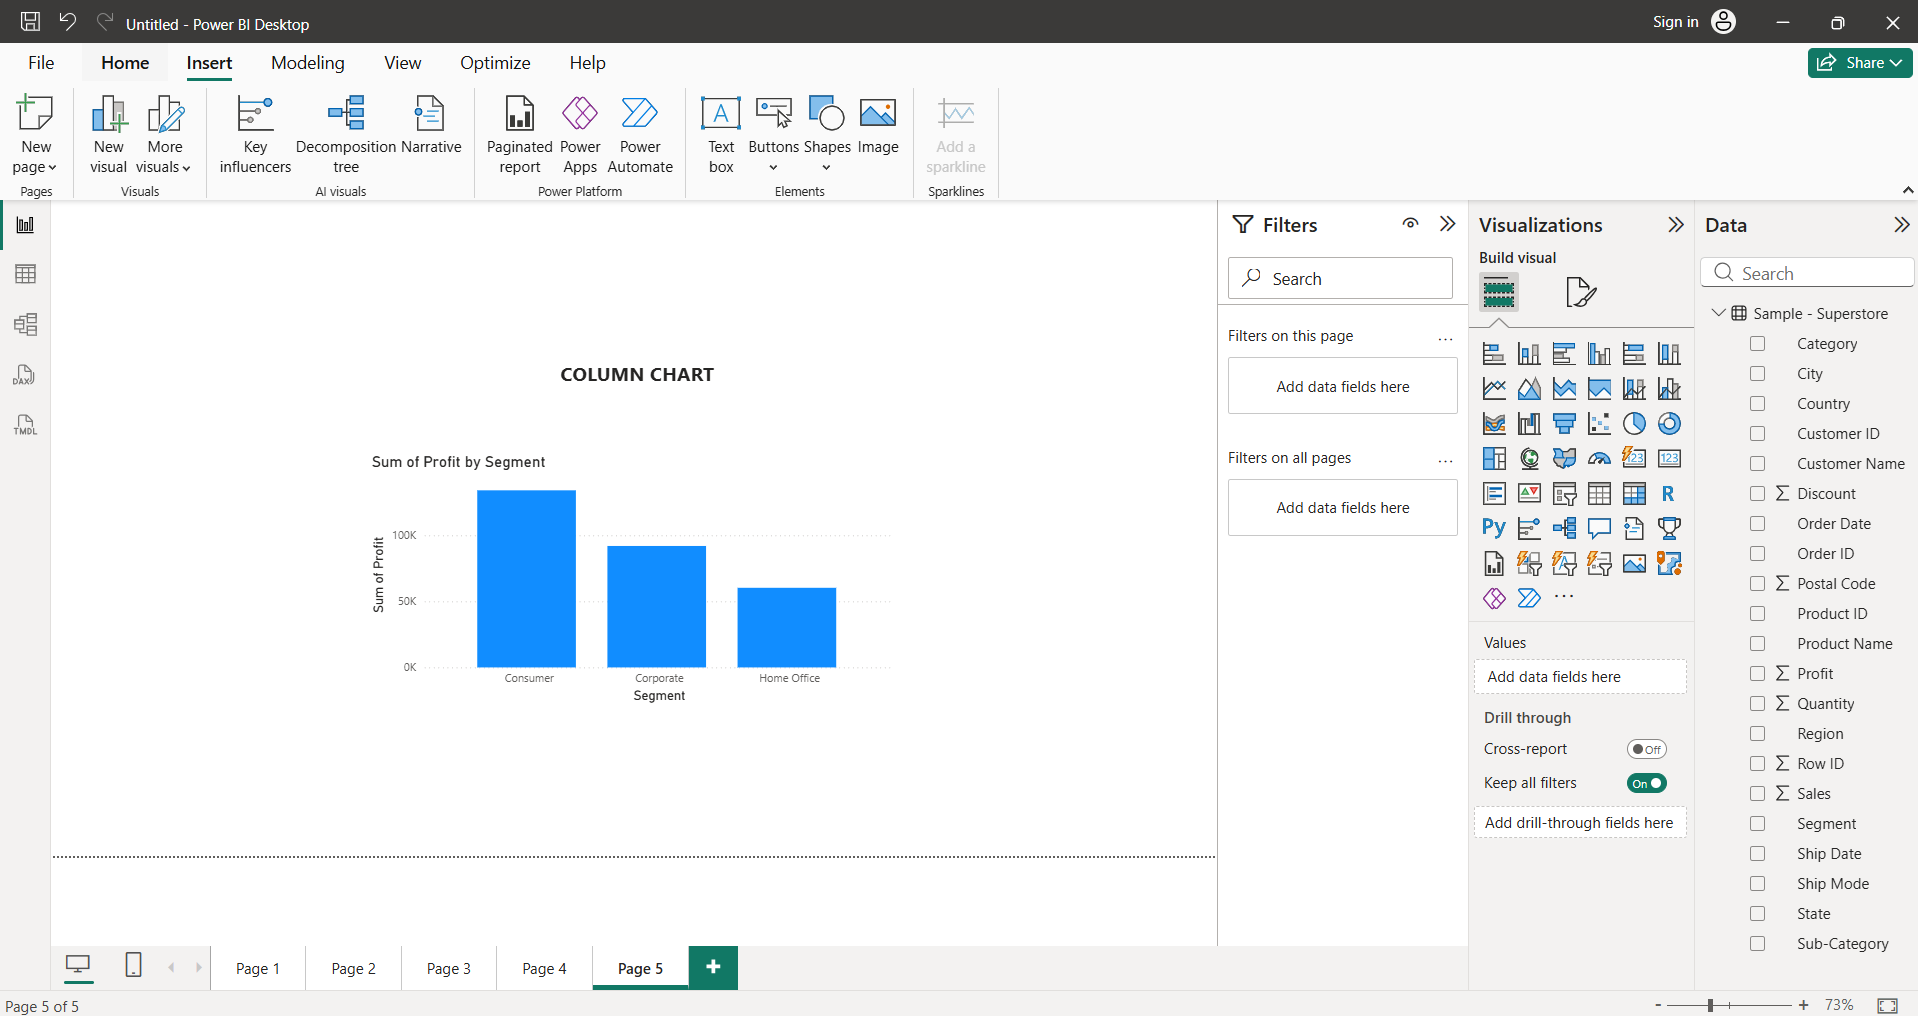

This screenshot's page, from the dashboard's own definition file:
{"tool":"powerbi","page":{"name":"Page 6","canvas":[1280,720],"ordinal":5},"visuals":[{"type":"clusteredColumnChart","fields":{"Category":["Sample - Superstore.Segment"],"Y":["Sum(Sample - Superstore.Profit)"]},"box":[390.1,219.7,490.1,380.3],"z":0},{"type":"textbox","box":[547.9,84.5,491.5,150.7],"z":1000}]}

Visuals, with their boxes on the page's 1280x720 design canvas (x1, y1, x2, y2). These are canvas units, not pixel positions in the 1918x1016 screenshot, which may show the page scaled, cropped or inside an application window:
clusteredColumnChart - Sample - Superstore.Segment x Sum(Sample - Superstore.Profit): bbox(390, 220, 880, 600)
textbox: bbox(548, 84, 1039, 235)
